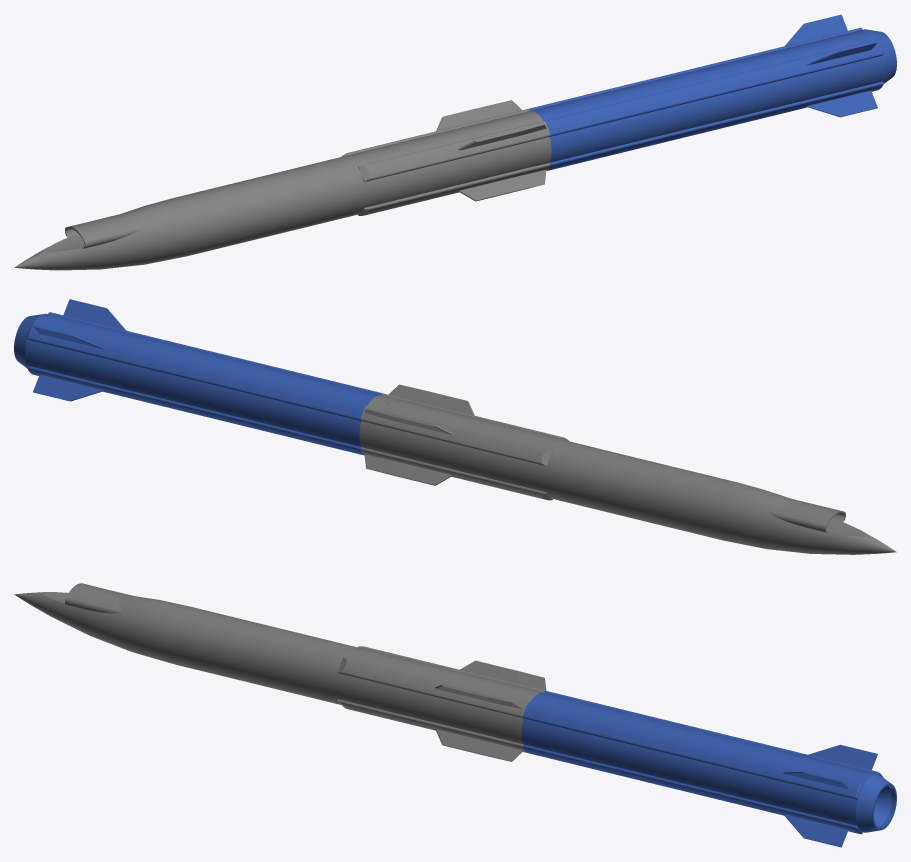
Rendered from Halberd_Complete_V2.glb.
3 views of the same model, one above another, from view 1: azimuth 30°, elevation 25°; view 2: azimuth 150°, elevation 25°; view 3: azimuth 330°, elevation 25° (orthographic).
Parts seen in each view (by area): view 1: Halberd_Complete parts V2 (×2); view 2: Halberd_Complete parts V2 (×2); view 3: Halberd_Complete parts V2 (×2).
Boxes of the visible parts, bbox=[...] form: Halberd_Complete parts V2 (×2): bbox=[14, 14, 896, 270]; Halberd_Complete parts V2 (×2): bbox=[14, 299, 896, 554]; Halberd_Complete parts V2 (×2): bbox=[14, 583, 896, 847].
Size of the model in its own units: 4.7 by 0.3489 by 0.3489.
